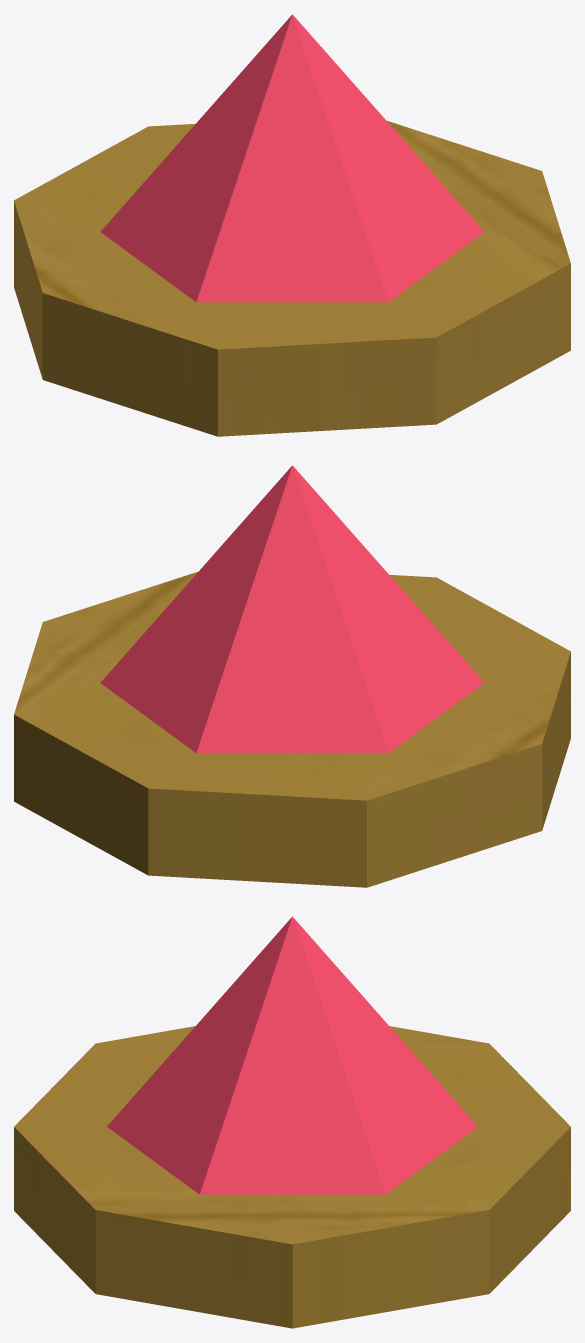
The model's file is acc_shoulder_gem.glb.
3 views of the same model, one above another, from view 1: azimuth 30°, elevation 25°; view 2: azimuth 150°, elevation 25°; view 3: azimuth 270°, elevation 25° (orthographic). The views are drawn at different scales.
Visible parts, largest first — view 1: acc_shoulder_gem; view 2: acc_shoulder_gem; view 3: acc_shoulder_gem.
Boxes of the visible parts, <box> form: acc_shoulder_gem: <box>14,14,570,436</box>; acc_shoulder_gem: <box>14,465,570,887</box>; acc_shoulder_gem: <box>14,916,570,1328</box>.
Size of the model in its own units: 0.12 by 0.07 by 0.12.
2 materials, 2 textured.
